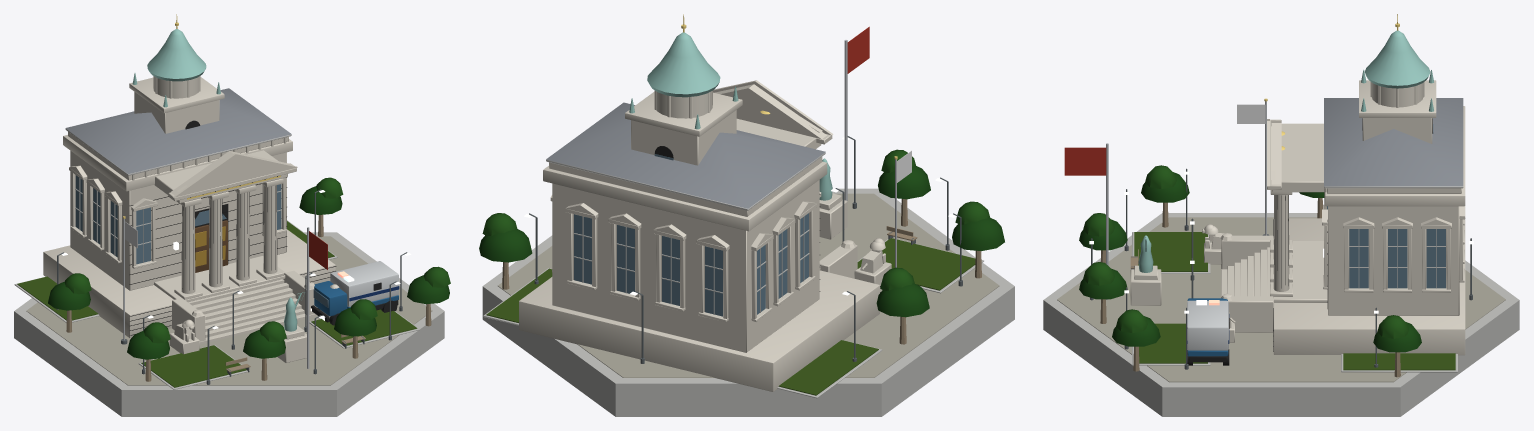
The model's file is courthouse_us.glb.
3 views of the same model, side by side, from view 1: azimuth 30°, elevation 25°; view 2: azimuth 150°, elevation 25°; view 3: azimuth 270°, elevation 25° (orthographic). The views are drawn at different scales.
Visible parts, largest first — view 1: stone, wall_concrete, pavers, roof_slate, leaf, turf, paint, dark, glass, copper, wood, steel_dark (+2 smaller); view 2: stone, wall_concrete, roof_slate, pavers, leaf, glass, turf, copper, steel_dark, wood, metal, paint; view 3: stone, wall_concrete, pavers, roof_slate, leaf, turf, paint, glass, copper, steel_dark, wood, dark (+2 smaller).
Part boxes in pixels (x1,y1,x2,y2): stone: [43, 76, 339, 362]; wall_concrete: [14, 129, 444, 416]; pavers: [26, 236, 432, 385]; roof_slate: [65, 88, 291, 174]; leaf: [48, 177, 450, 359]; turf: [17, 221, 417, 387]; paint: [309, 231, 399, 316]; dark: [129, 120, 398, 335]; glass: [75, 175, 328, 307]; copper: [132, 29, 304, 331]; wood: [66, 214, 431, 381]; steel_dark: [56, 189, 407, 384]; stone: [519, 80, 891, 391]; wall_concrete: [482, 152, 1014, 416]; roof_slate: [546, 102, 825, 208]; pavers: [498, 193, 999, 377]; leaf: [479, 149, 1004, 317]; glass: [574, 154, 808, 316]; turf: [486, 238, 975, 395]; copper: [629, 32, 832, 200]; steel_dark: [529, 136, 962, 363]; wood: [502, 199, 981, 344]; metal: [844, 40, 896, 267]; paint: [847, 26, 869, 73]; stone: [1130, 80, 1465, 355]; wall_concrete: [1043, 186, 1519, 416]; pavers: [1057, 217, 1505, 382]; roof_slate: [1324, 98, 1463, 186]; leaf: [1079, 165, 1421, 352]; turf: [1134, 232, 1455, 370]; paint: [1064, 147, 1229, 356]; glass: [1327, 124, 1445, 288]; copper: [1138, 30, 1433, 272]; steel_dark: [1090, 168, 1472, 369]; wood: [1100, 198, 1400, 377]; dark: [1187, 118, 1432, 365].
Bounding box in the file's own units: 21.41 × 18 × 24.6.
